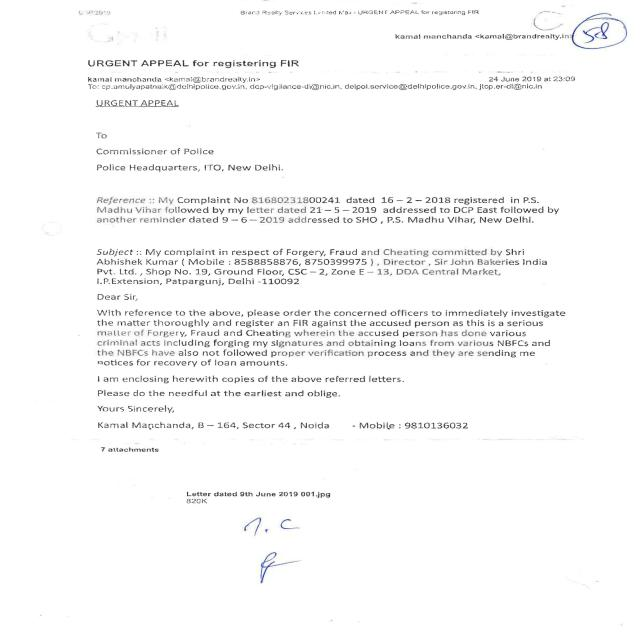page-number: (569, 2, 640, 167)
